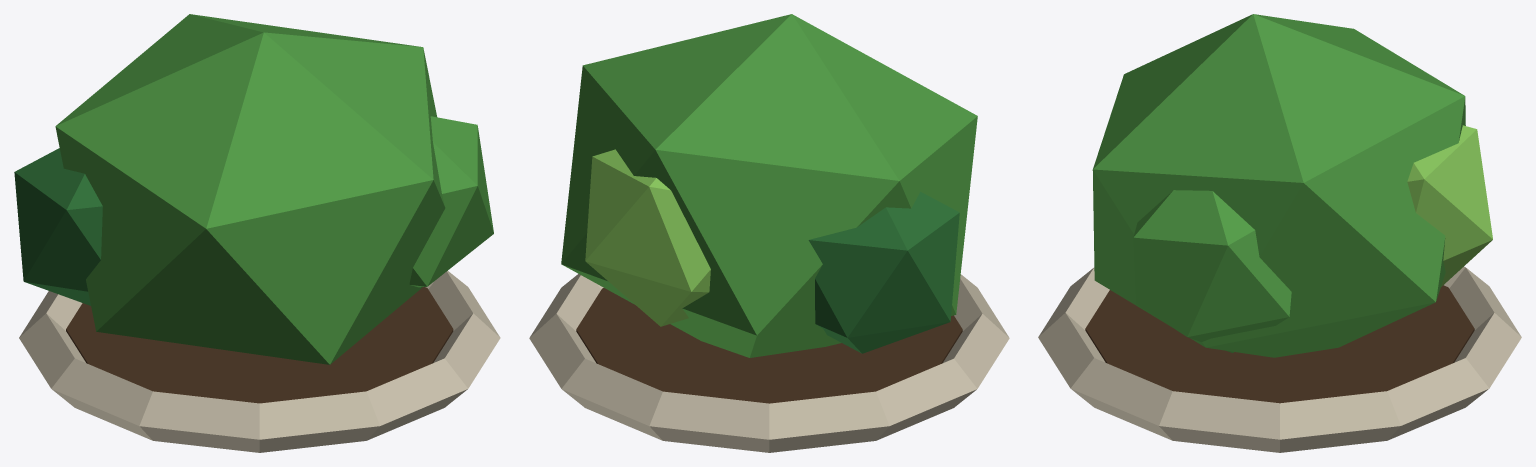
The picture shows the model from 3 angles, left to right: view 1: azimuth 30°, elevation 25°; view 2: azimuth 150°, elevation 25°; view 3: azimuth 270°, elevation 25°; orthographic projection.
Visible parts, largest first — view 1: WK_TownFlora_ClippedBoxwoodMound_LOD1_Balanced; view 2: WK_TownFlora_ClippedBoxwoodMound_LOD1_Balanced; view 3: WK_TownFlora_ClippedBoxwoodMound_LOD1_Balanced.
Boxes of the visible parts, x1,y1,x2,y2 form: WK_TownFlora_ClippedBoxwoodMound_LOD1_Balanced: (14,14,500,452); WK_TownFlora_ClippedBoxwoodMound_LOD1_Balanced: (529,14,1009,452); WK_TownFlora_ClippedBoxwoodMound_LOD1_Balanced: (1038,14,1521,452).
Bounding box in the file's own units: 1.94 × 1.52 × 1.94.
